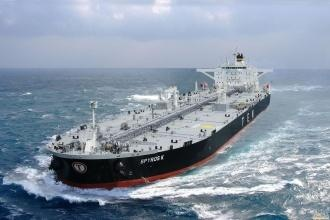Cargoship: (37, 45, 274, 189)
